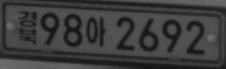2: (184, 18, 206, 55), (115, 15, 136, 51)
6: (138, 16, 159, 52)
8: (62, 12, 84, 48)
9: (39, 10, 61, 46), (160, 18, 183, 52)
경북_V: (16, 10, 37, 45)
아: (85, 16, 106, 47)
